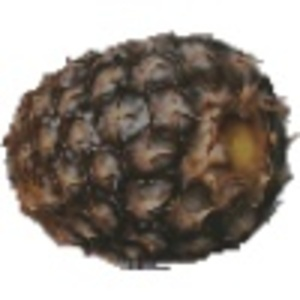abacaxi: (1, 31, 294, 267)
